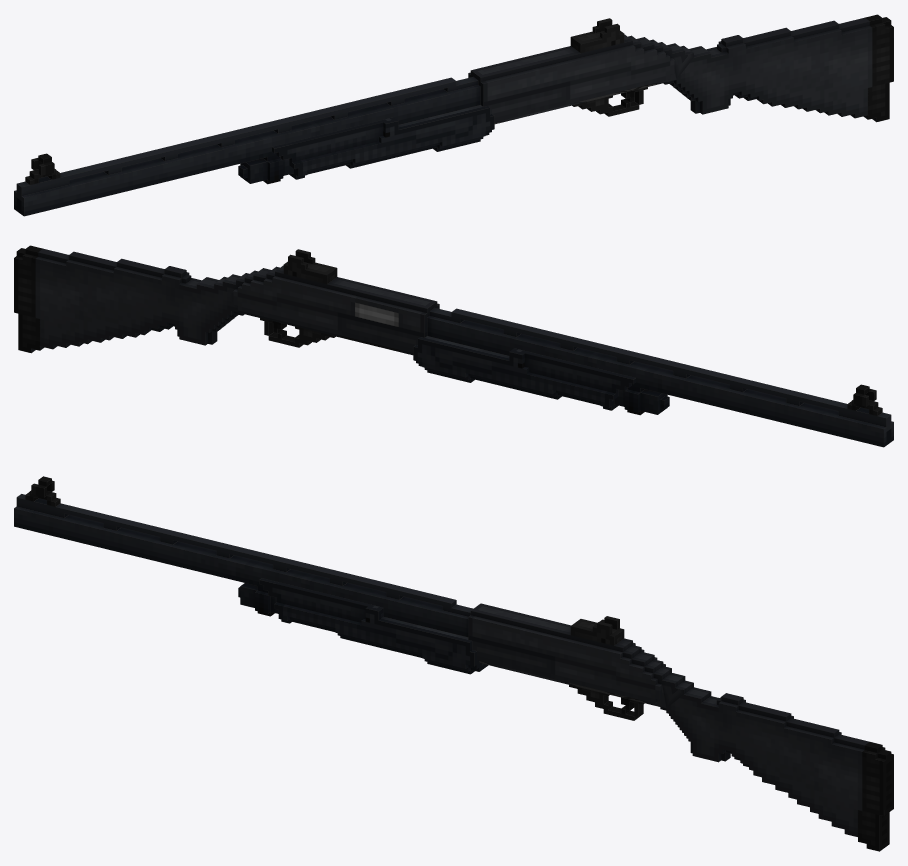
File: NOVA.glb
The picture shows the model from 3 angles, top to bottom: view 1: azimuth 30°, elevation 25°; view 2: azimuth 150°, elevation 25°; view 3: azimuth 330°, elevation 25°; orthographic projection.
Parts seen in each view (by area): view 1: BENELLI_NOVA_BODY, BENELLI_NOVA_FOREND; view 2: BENELLI_NOVA_BODY, BENELLI_NOVA_FOREND; view 3: BENELLI_NOVA_BODY, BENELLI_NOVA_FOREND.
Part boxes in pixels (box(x1,y1,x2,y2)): BENELLI_NOVA_BODY: box(14, 14, 893, 216); BENELLI_NOVA_FOREND: box(272, 105, 494, 179); BENELLI_NOVA_BODY: box(14, 245, 893, 447); BENELLI_NOVA_FOREND: box(413, 336, 635, 410); BENELLI_NOVA_BODY: box(14, 476, 893, 851); BENELLI_NOVA_FOREND: box(259, 578, 488, 674).
Size of the model in its own units: 1.97 by 0.3544 by 0.0788.
Materials: 1 (1 with a texture image).
